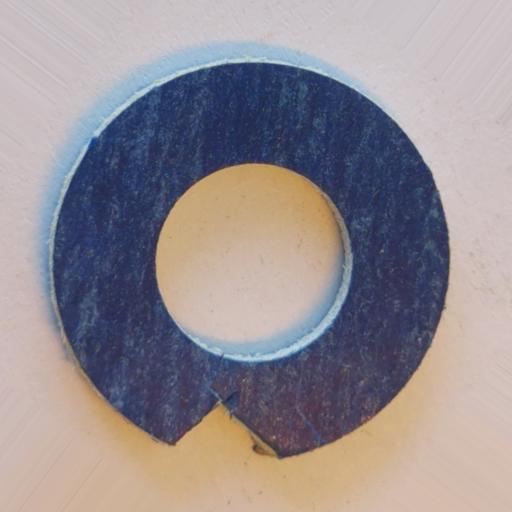defect: (171, 389, 281, 459)
